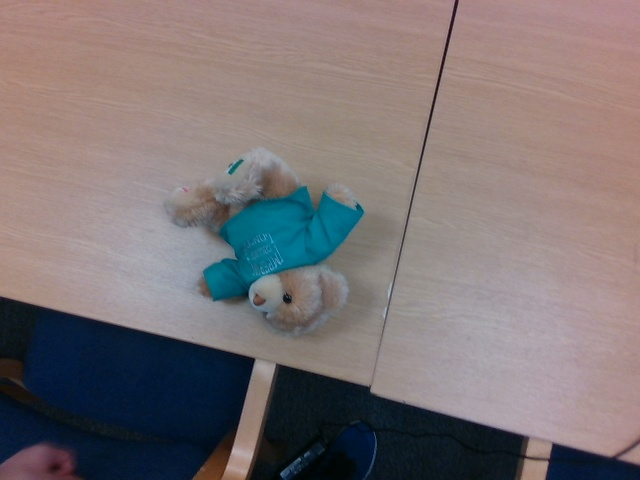teddy: (166, 146, 364, 338)
